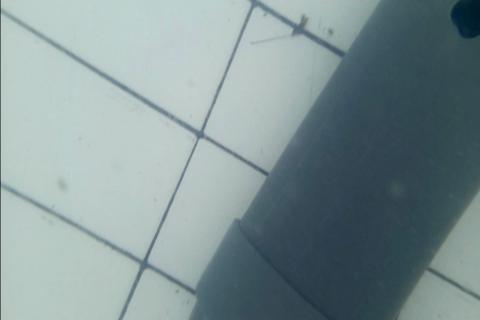kebocoran: (451, 1, 480, 40)
